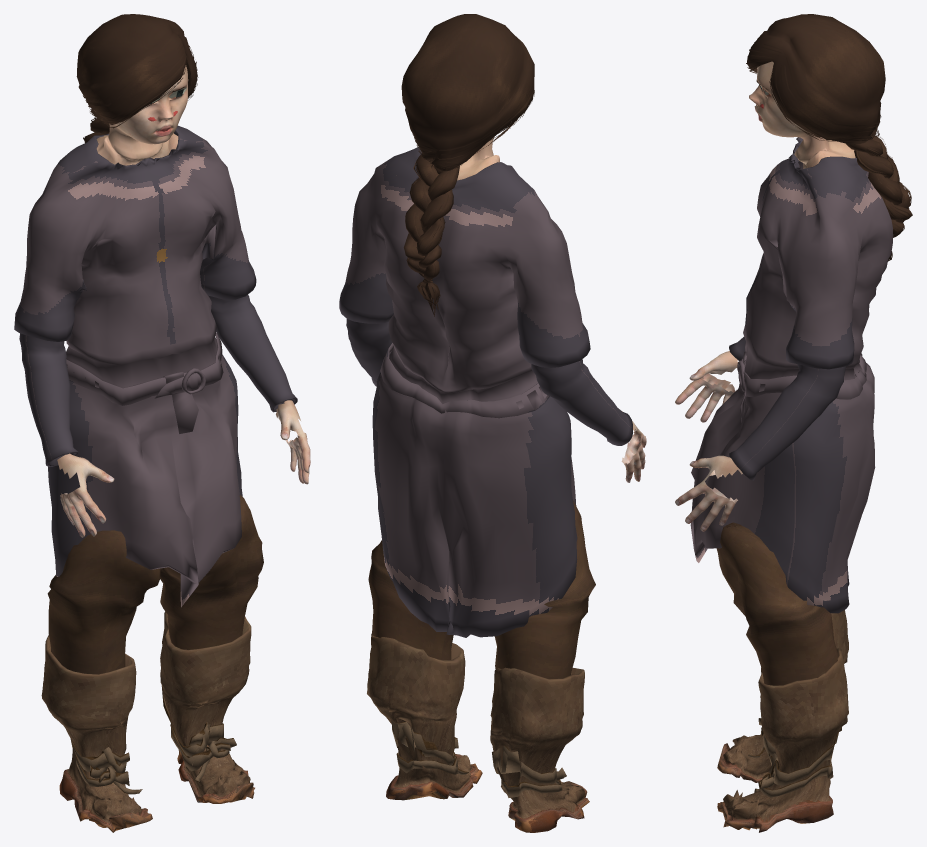
Rendered from ada-travel-coat.glb.
The picture shows the model from 3 angles, left to right: view 1: azimuth 30°, elevation 25°; view 2: azimuth 150°, elevation 25°; view 3: azimuth 270°, elevation 25°; orthographic projection. The views are drawn at different scales.
Parts seen in each view (by area): view 1: ada-travel-coat runtime mesh; view 2: ada-travel-coat runtime mesh; view 3: ada-travel-coat runtime mesh.
Part boxes in pixels (<box>): ada-travel-coat runtime mesh: <box>14,14,310,832</box>; ada-travel-coat runtime mesh: <box>339,14,646,832</box>; ada-travel-coat runtime mesh: <box>675,14,912,832</box>.
Bounding box in the file's own units: 0.6253 × 1.85 × 0.5096.
Materials: 8 (7 with a texture image).
